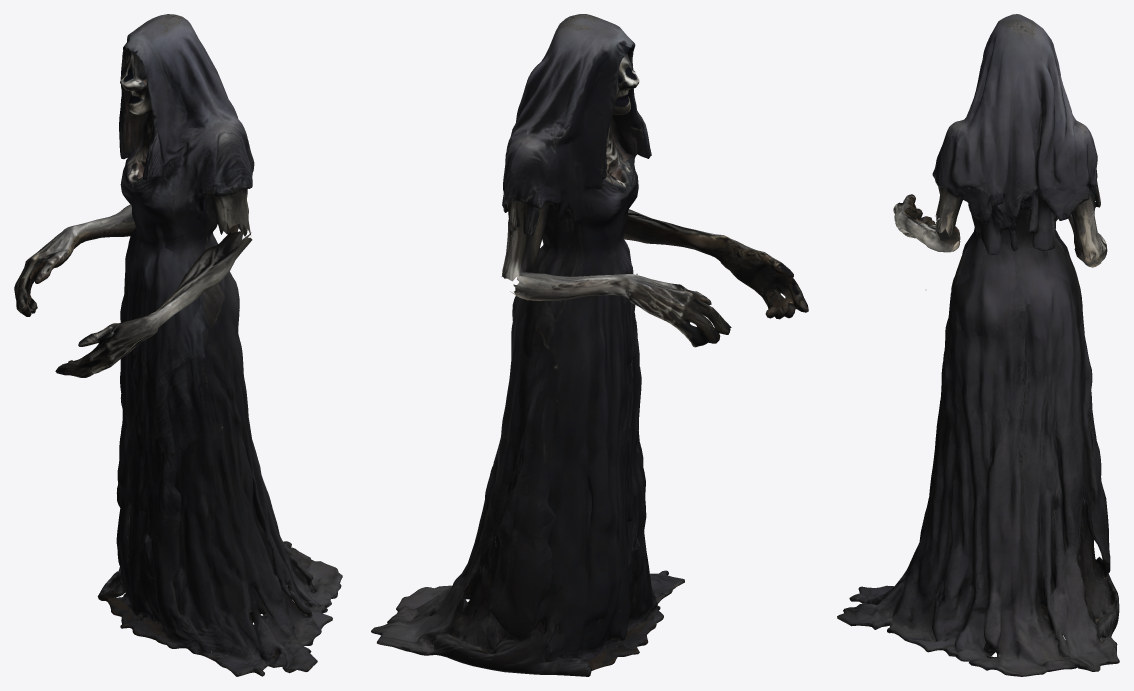
Rendered from gREY_lady2.fbx.
The picture shows the model from 3 angles, left to right: view 1: azimuth 30°, elevation 25°; view 2: azimuth 150°, elevation 25°; view 3: azimuth 270°, elevation 25°; orthographic projection. The views are drawn at different scales.
Parts seen in each view (by area): view 1: char1.001; view 2: char1.001; view 3: char1.001.
Part boxes in pixels (bbox=[...]): char1.001: bbox=[14, 14, 342, 676]; char1.001: bbox=[371, 14, 808, 676]; char1.001: bbox=[837, 14, 1119, 676].
Bounding box in the file's own units: 9938 × 17000 × 7546.
1 material, 1 textured.
